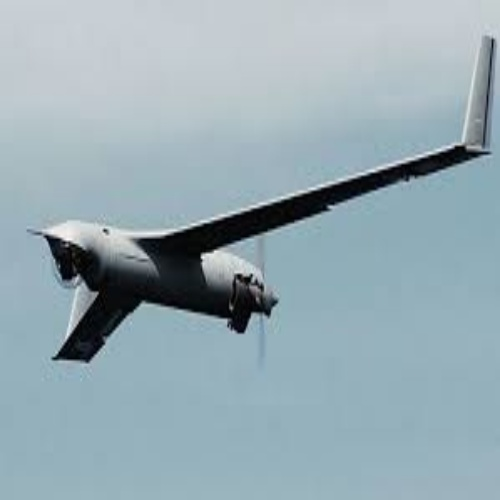uav562: (22, 34, 496, 367)
